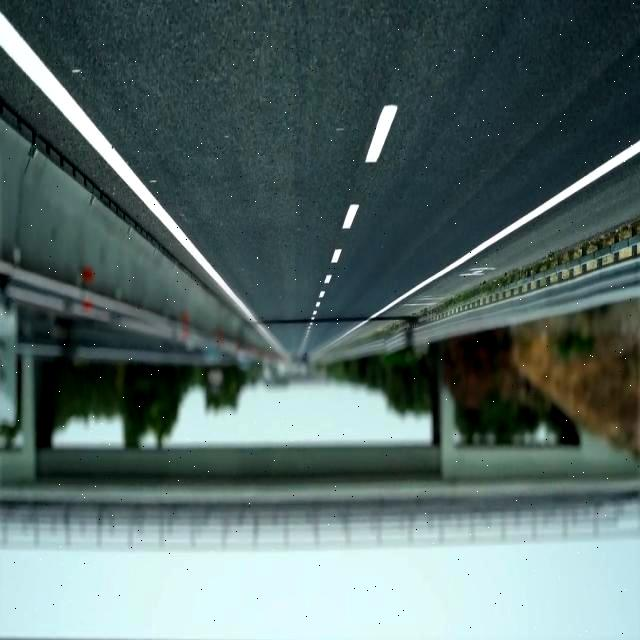lane: (1, 12, 286, 355), (330, 139, 640, 344), (365, 104, 398, 164), (594, 141, 640, 177), (343, 204, 359, 229), (332, 249, 341, 262)
road: (0, 1, 639, 353), (0, 51, 218, 290), (380, 155, 639, 319)
